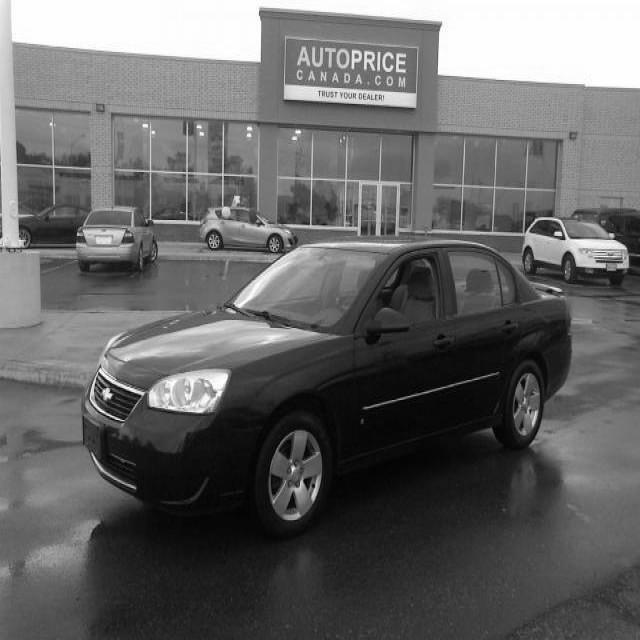car: (80, 236, 573, 539), (521, 215, 629, 285), (75, 204, 158, 272), (198, 206, 298, 253), (18, 202, 90, 246)
